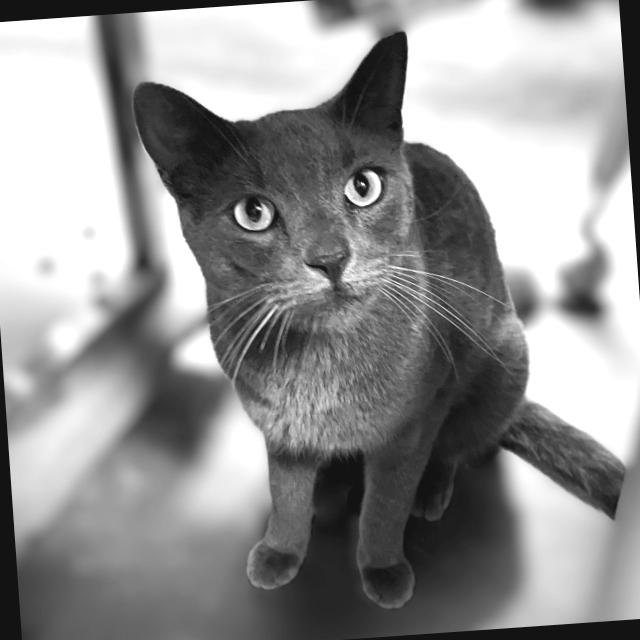russian_blue_cat: (118, 12, 440, 368)
